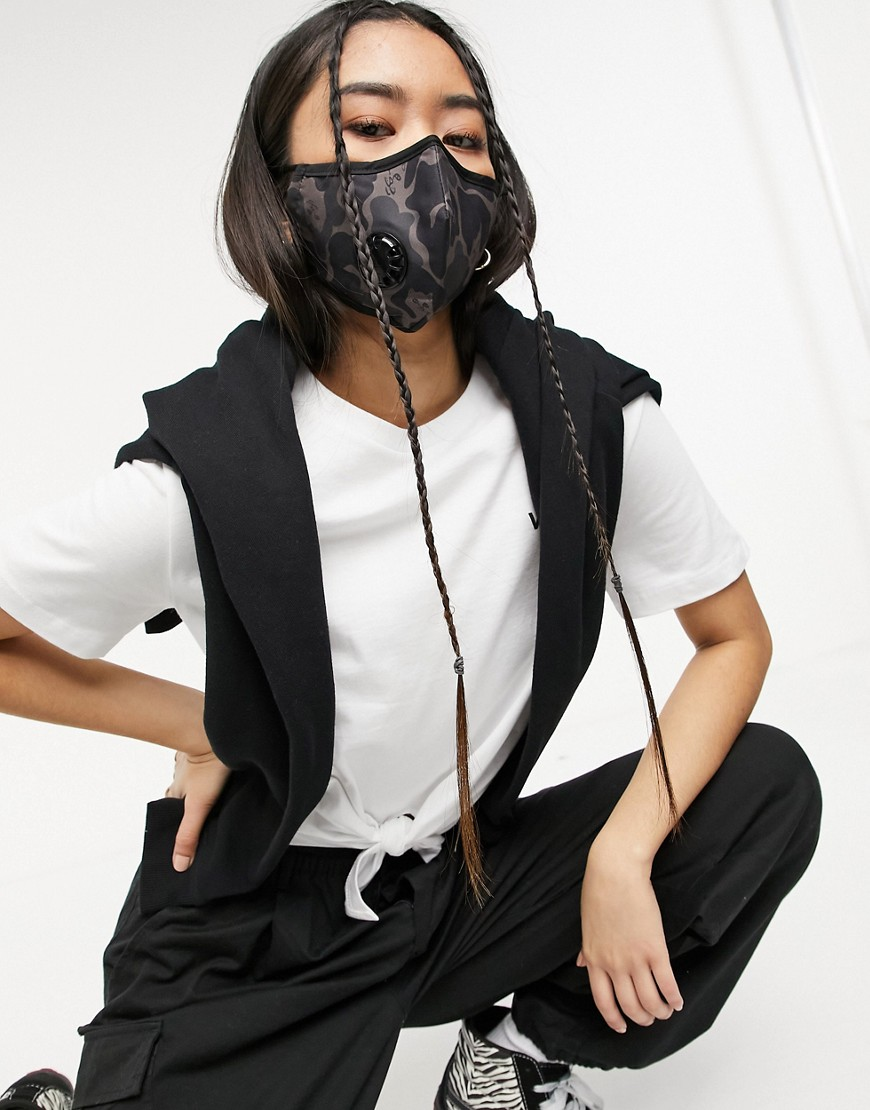with_mask: (295, 68, 484, 288)
